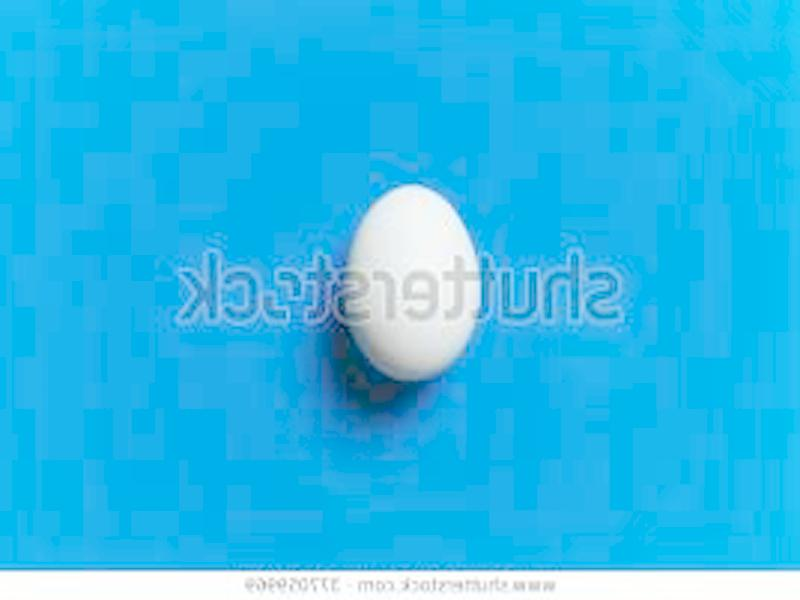Eggs: (345, 179, 477, 380)
